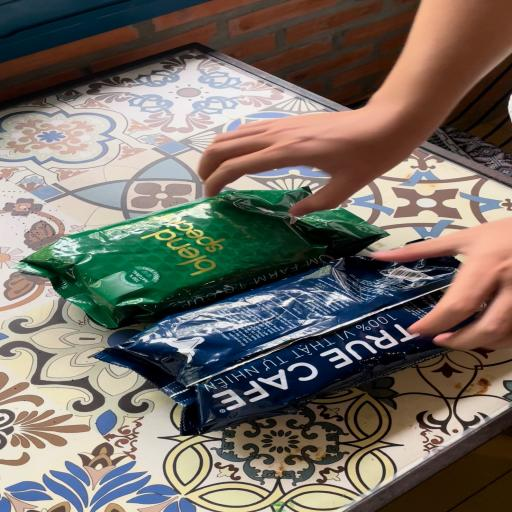cafe_hat: (97, 257, 458, 435), (94, 256, 458, 403)
